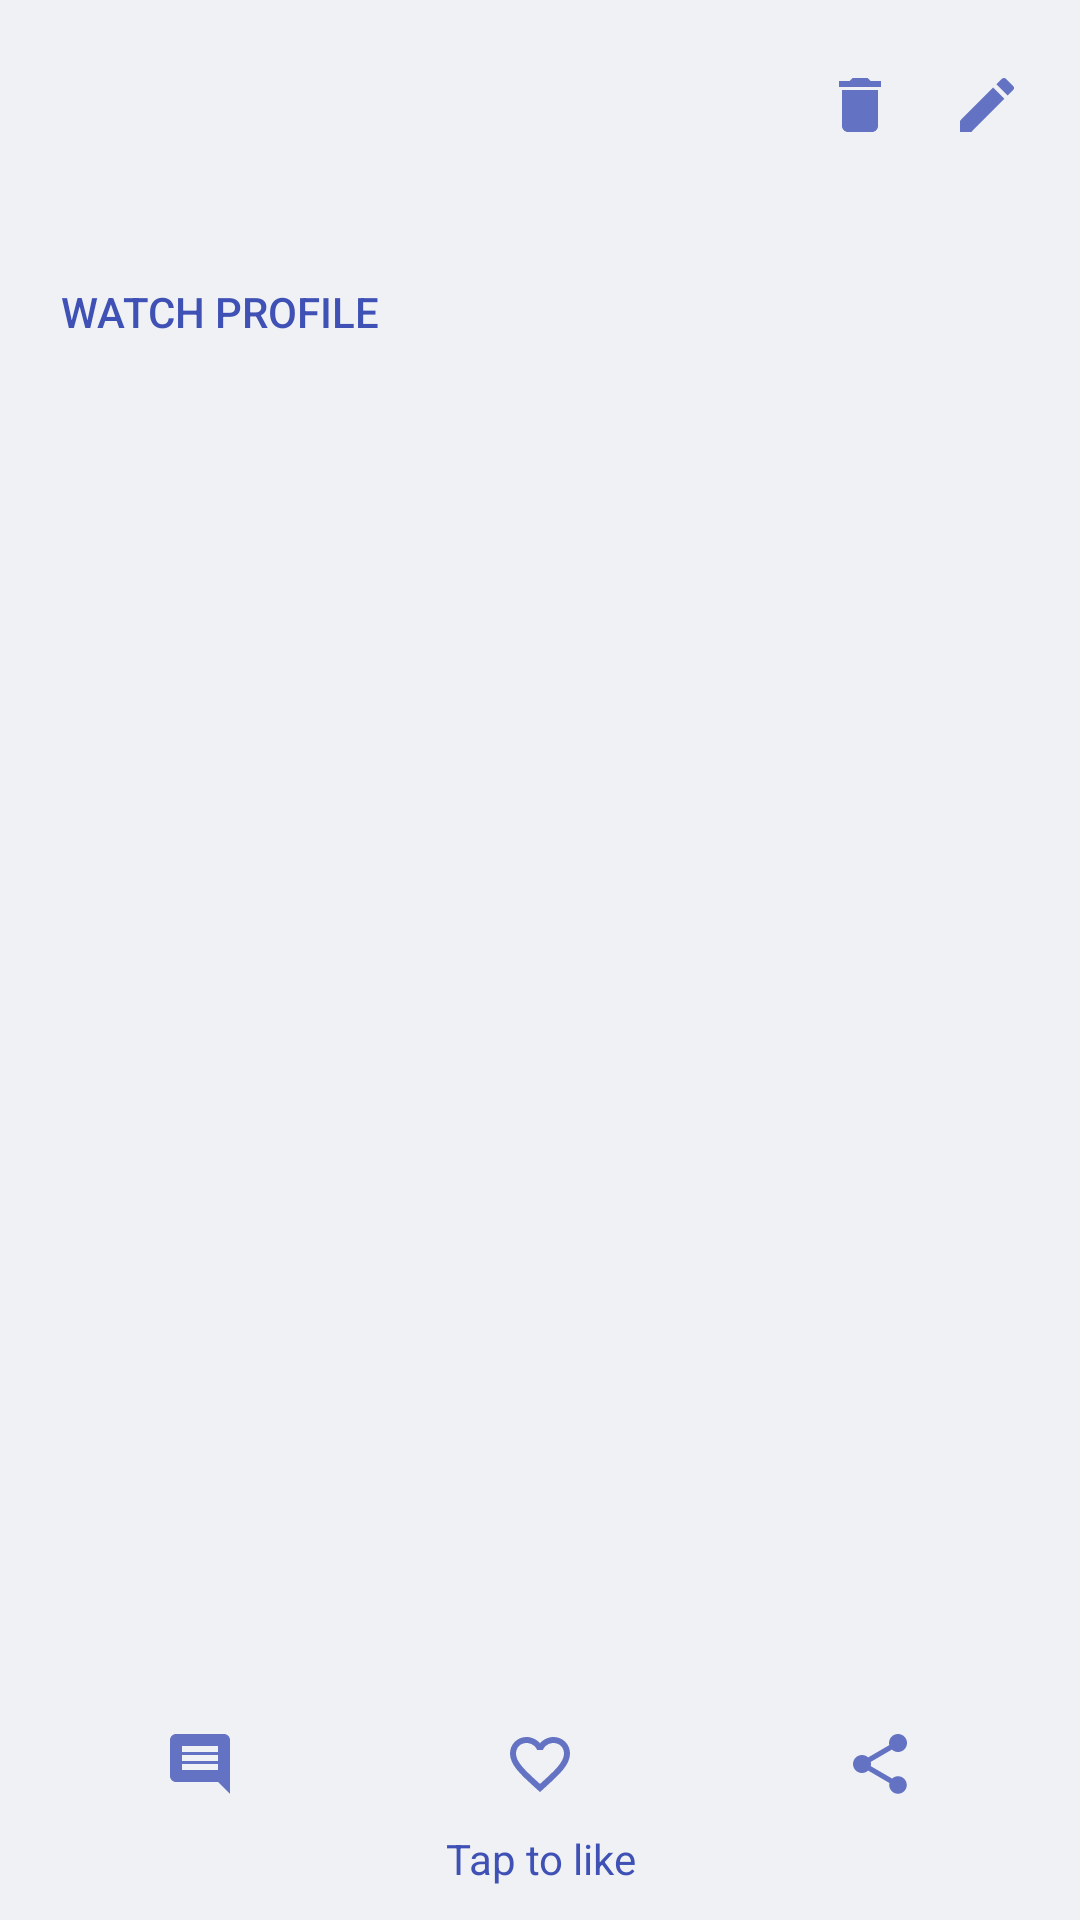

Named icons in this screenshot (1080x1920) and their centers, point (x, y):
comment: point (200, 1764)
delete: point (860, 105)
edit: point (987, 105)
likeoff: point (540, 1764)
share: point (880, 1764)
